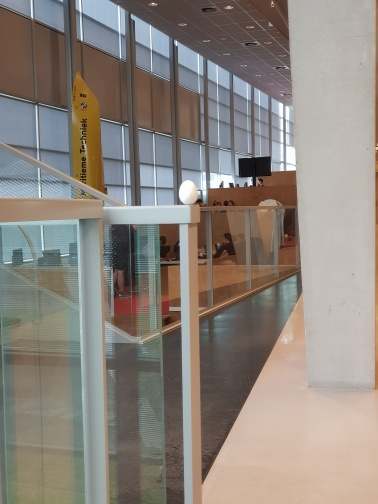egg: (177, 177, 199, 205)
